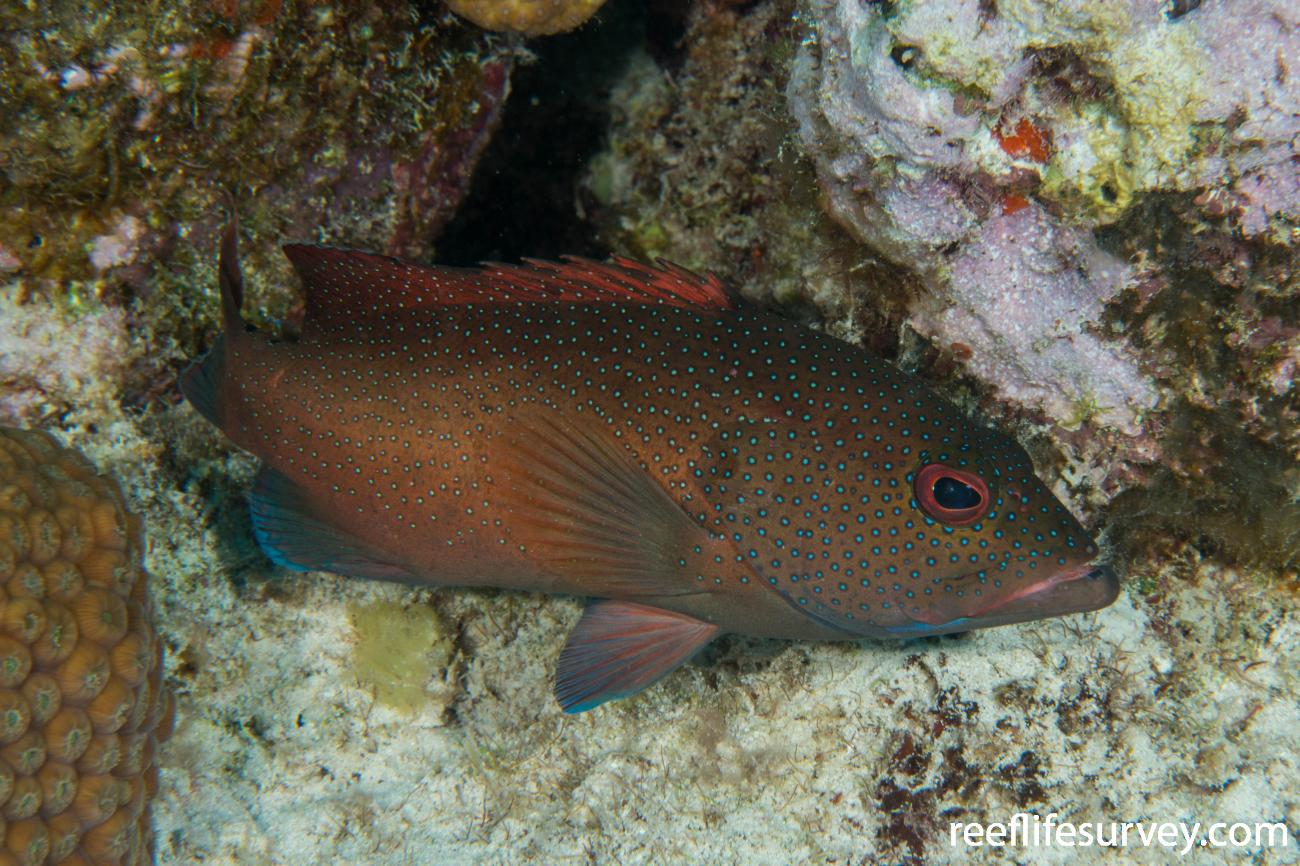Cephalopholis_fulvaw: (184, 215, 1106, 690)
